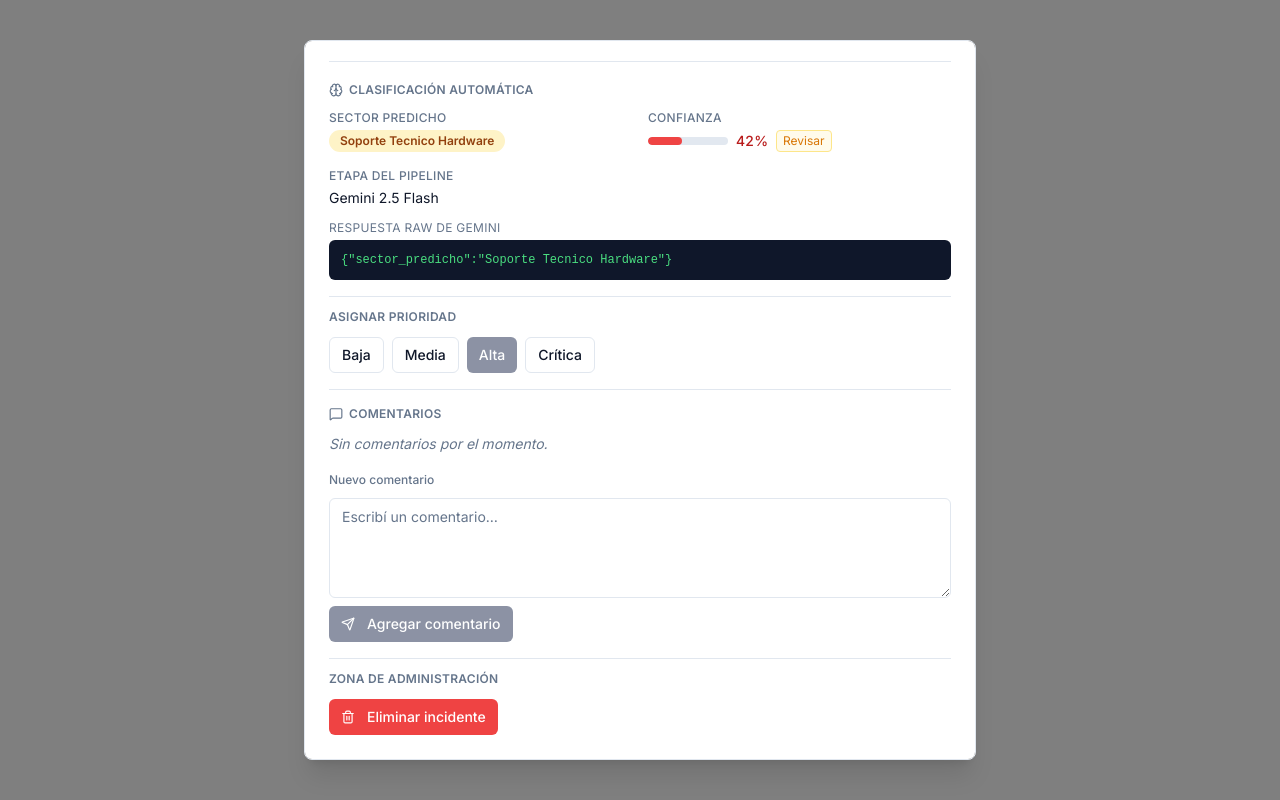
TicketDetailDialog - accion de borrado logico (c-87, FR-RBAC-006) › exige confirmacion antes de invocar el backend
(page scrolled)
Step 1. Click the button "Eliminar incidente" → (413, 717), box [329,699,498,735]
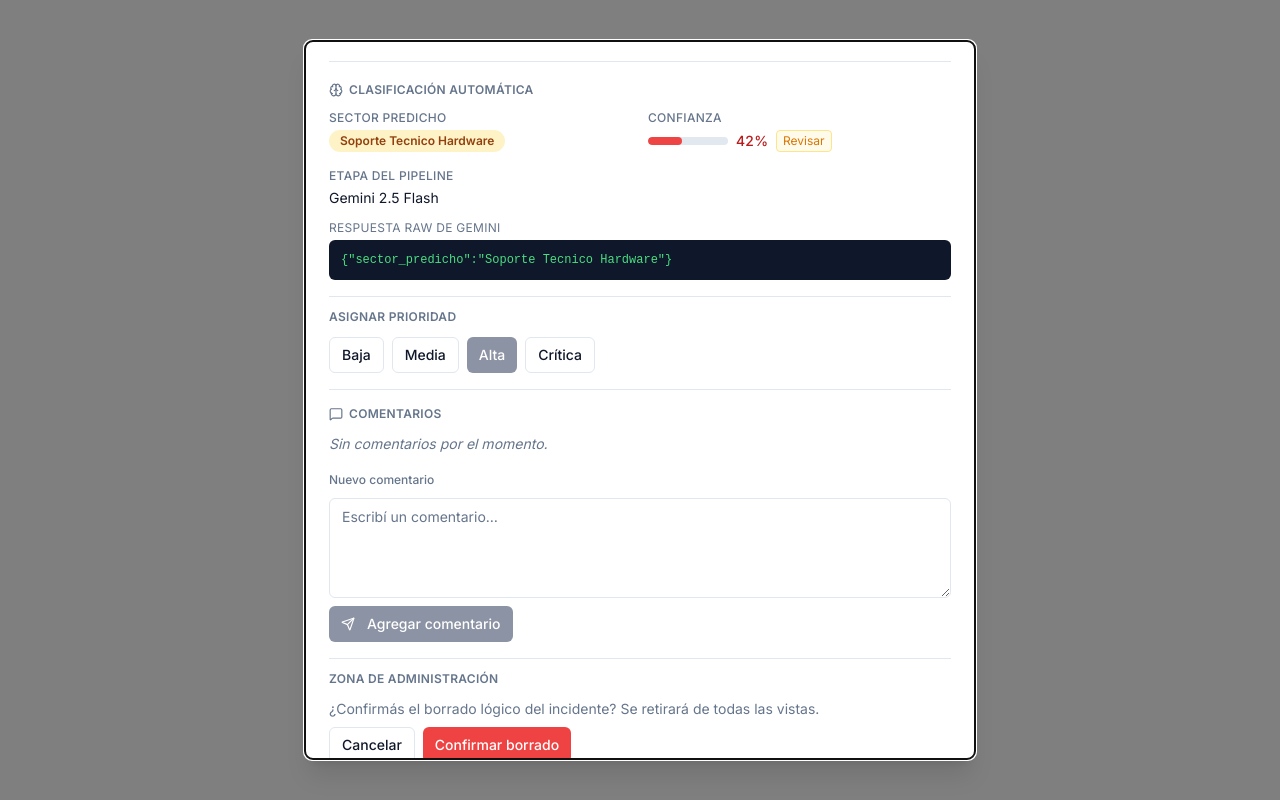
Expected: the button "Confirmar borrado" is shown, [423,727,571,760]
